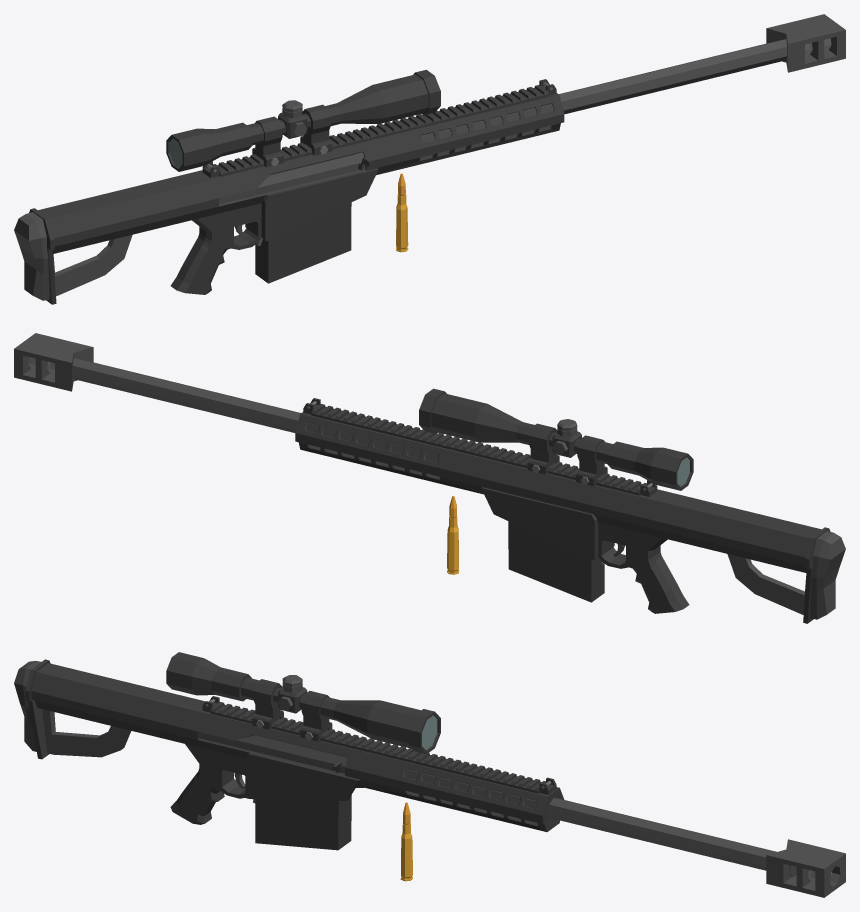
Rendered from Barrett M82A1.fbx.
3 renders of one model, top to bottom at view 1: azimuth 30°, elevation 25°; view 2: azimuth 150°, elevation 25°; view 3: azimuth 330°, elevation 25°, orthographic.
Visible parts, largest first — view 1: Barrett M82A1, Scope, Mag, Bullet; view 2: Barrett M82A1, Scope, Mag, Bullet; view 3: Barrett M82A1, Scope, Mag, Bullet.
Boxes of the visible parts, x1,y1,x2,y2 form: Barrett M82A1: [14, 14, 845, 304]; Scope: [166, 69, 440, 171]; Mag: [255, 202, 351, 283]; Bullet: [396, 173, 408, 252]; Barrett M82A1: [14, 333, 845, 623]; Scope: [419, 388, 693, 490]; Mag: [508, 521, 604, 602]; Bullet: [447, 496, 459, 574]; Barrett M82A1: [14, 659, 845, 897]; Scope: [166, 652, 440, 754]; Mag: [255, 795, 351, 850]; Bullet: [400, 802, 412, 881].
Size of the model in its own units: 963 by 198 by 63.33.
2 materials, 2 textured.
